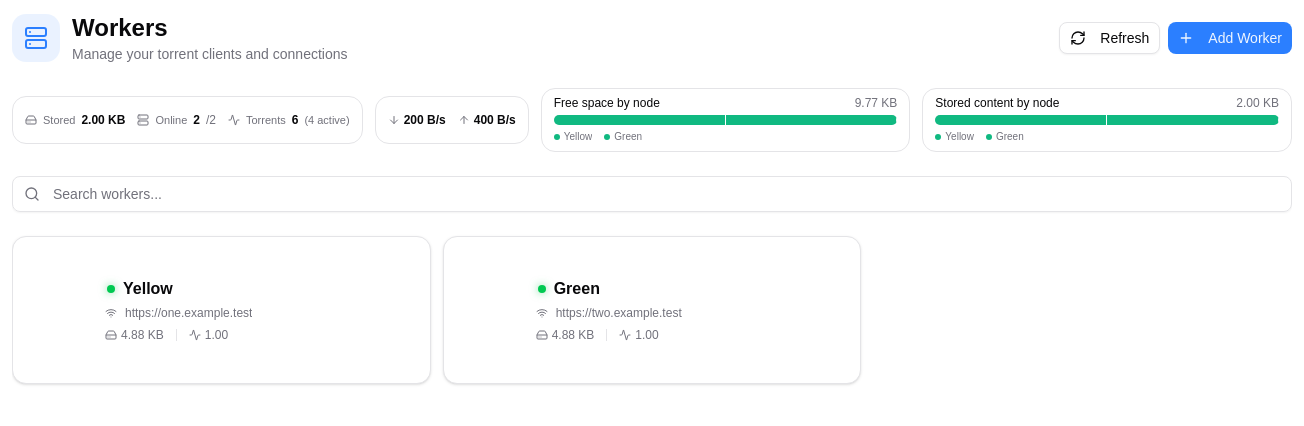
it: Workers overview integration › shares overview status with cards and filters locally without new requests
This screenshot has width=1304, height=426.
Expected: the text "2.00 KB" next to "Online" is shown, [81,113,125,127]
Type "Yellow" into the field with placeholder "Search workers..." at (652, 194), box [12,176,1292,212]
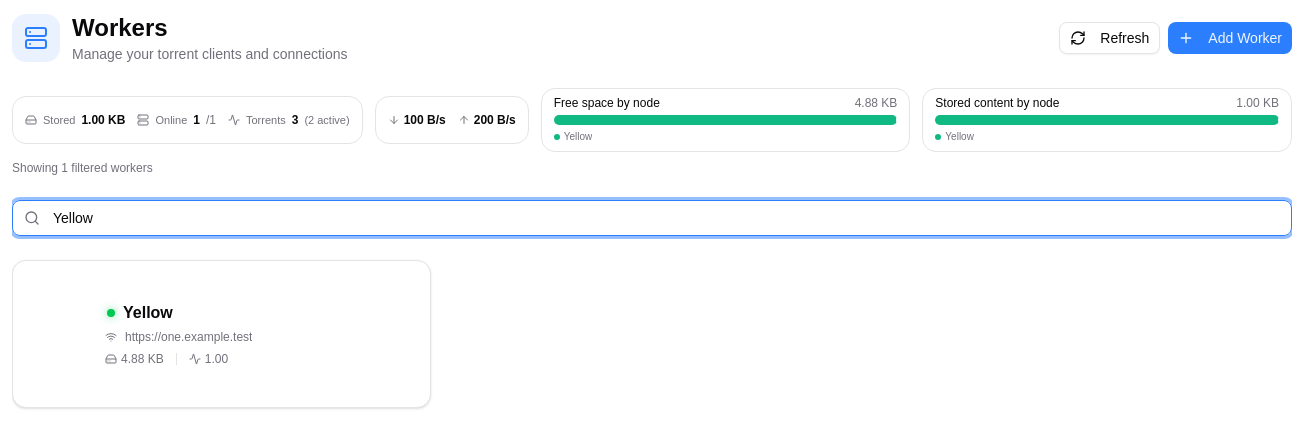
Expected: the text "1.00 KB" next to "Online" is shown, [81,113,125,127]
Expected: the text "Showing 1 filtered workers" is shown, [12,160,153,176]
Clear the field with placeholder "Search workers..." at (652, 218), box [12,200,1292,236]
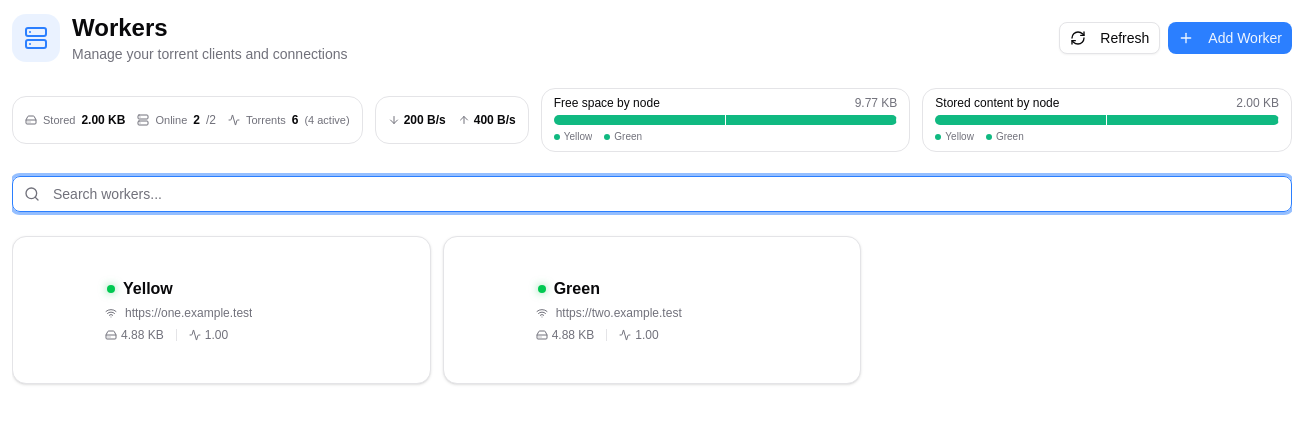
Expected: the text "2.00 KB" next to "Online" is shown, [81,113,125,127]
